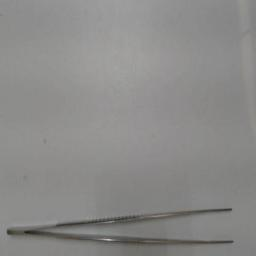DeBakey Dissector: (2, 188, 246, 250)
